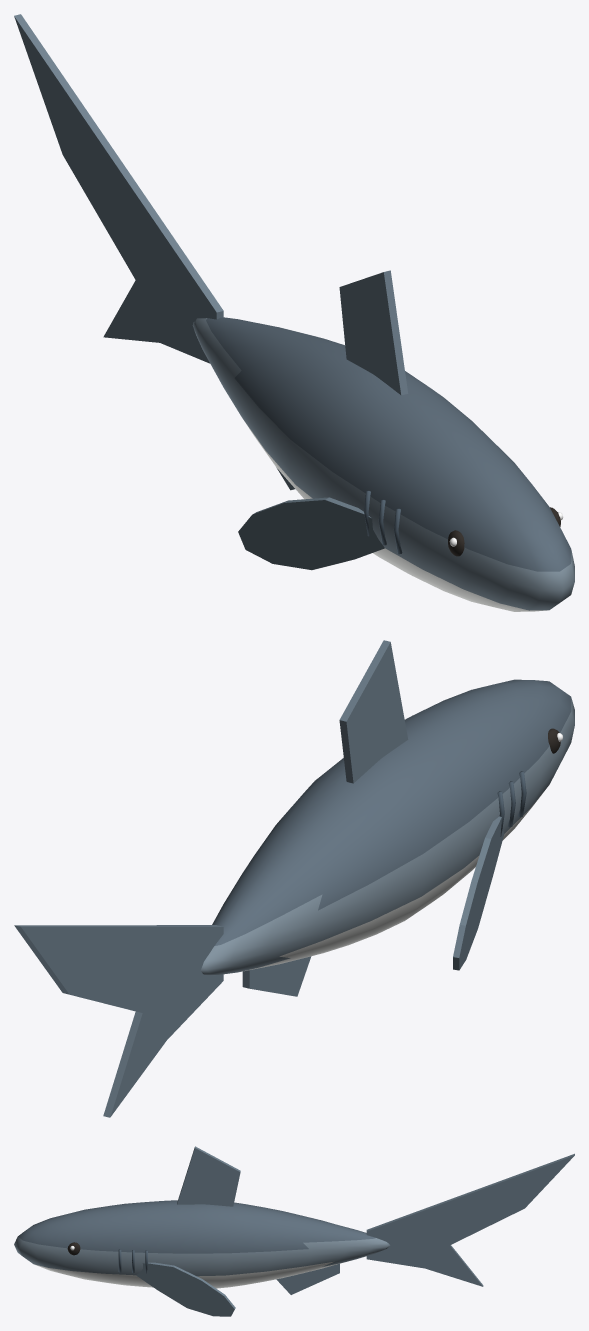
File: fish-shark.glb
3 views of the same model, one above another, from view 1: azimuth 30°, elevation 25°; view 2: azimuth 150°, elevation 25°; view 3: azimuth 270°, elevation 25° (orthographic). The views are drawn at different scales.
Visible parts, largest first — view 1: fish; view 2: fish; view 3: fish.
Boxes of the visible parts, x1,y1,x2,y2 form: fish: (14, 14, 574, 611); fish: (14, 640, 574, 1117); fish: (14, 1146, 574, 1316).
Bounding box in the file's own units: 0.1895 × 0.2347 × 0.8102.
